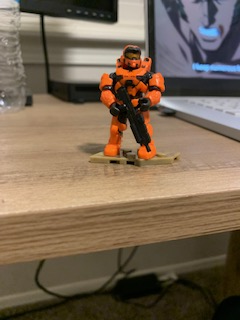rifle: (114, 87, 152, 155)
spartan: (96, 40, 165, 166)
